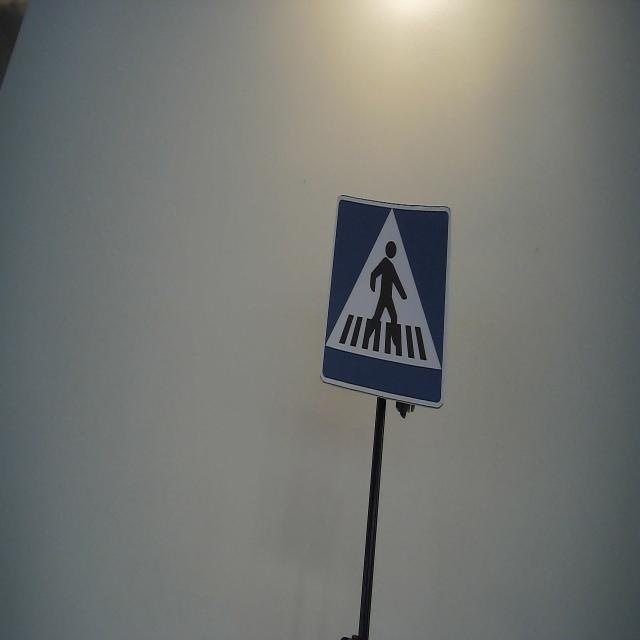crosswalk_sign: (317, 191, 453, 413)
